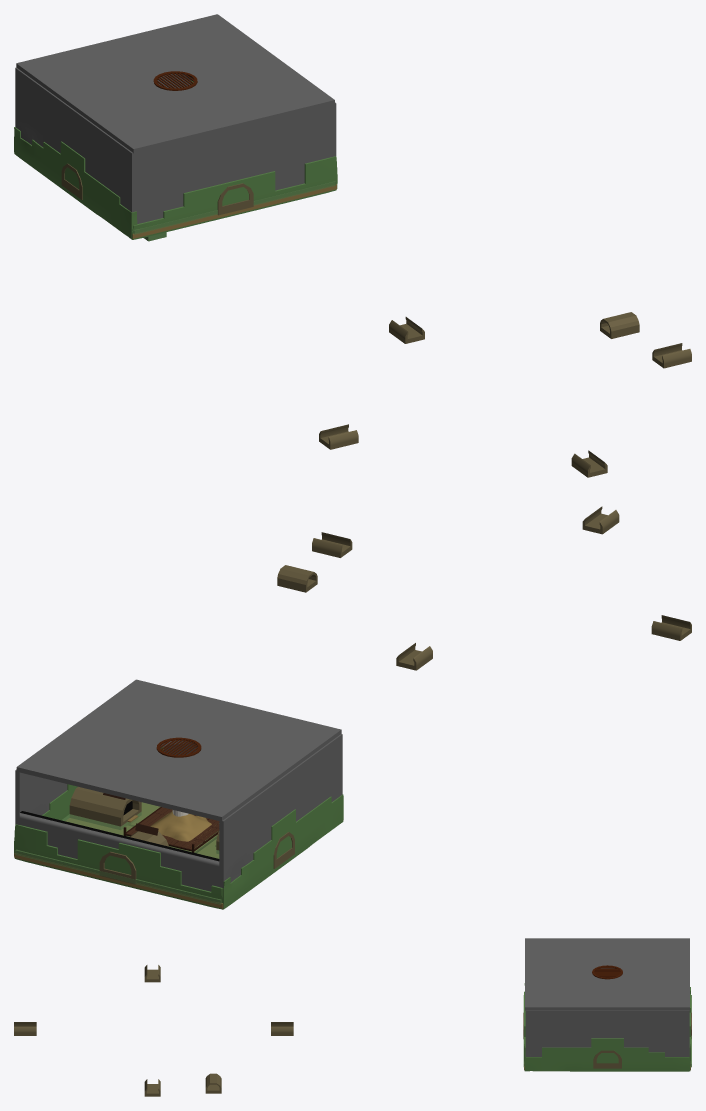
File: COLONY.fbx
3 renders of one model, top to bottom at view 1: azimuth 30°, elevation 25°; view 2: azimuth 150°, elevation 25°; view 3: azimuth 270°, elevation 25°, orthographic. The views are drawn at different scales.
Visible parts, largest first — view 1: COVER, pCube174, pCube176, pCube25, Water, Tunnel5, Tunnel6, Tunnel9; view 2: COVER, pCube176, pCube175, Water, pCube172, Tunnel10, pCube25, pasted__pCube1, Tunnel13, Tunnel5, Tunnel6, Tunnel9 (+2 smaller); view 3: COVER, pCube172, Tunnel5, Tunnel7, Tunnel8, Tunnel10.
Boxes of the visible parts, box(x1,y1,x2,y2) form: COVER: box(16, 14, 334, 153); pCube174: box(129, 105, 336, 239); pCube176: box(14, 67, 137, 238); pCube25: box(132, 184, 336, 238); Water: box(133, 181, 335, 234); Tunnel5: box(600, 312, 639, 338); Tunnel6: box(319, 424, 358, 449); Tunnel9: box(652, 343, 691, 368); COVER: box(16, 679, 341, 821); pCube176: box(219, 734, 343, 909); pCube175: box(14, 811, 223, 909); Water: box(15, 802, 221, 904); pCube172: box(14, 769, 77, 858); Tunnel10: box(69, 786, 141, 829); pCube25: box(14, 802, 223, 908); pasted__pCube1: box(150, 811, 211, 851); Tunnel13: box(99, 831, 168, 884); Tunnel5: box(277, 565, 317, 592); Tunnel6: box(651, 615, 691, 640); Tunnel9: box(312, 532, 352, 557); COVER: box(525, 938, 689, 1010); pCube172: box(524, 1010, 690, 1071); Tunnel5: box(205, 1073, 221, 1093); Tunnel7: box(271, 1022, 293, 1035); Tunnel8: box(14, 1022, 36, 1035); Tunnel10: box(593, 1050, 621, 1068).
Bounding box in the file's own units: 96.06 × 29.12 × 222.
